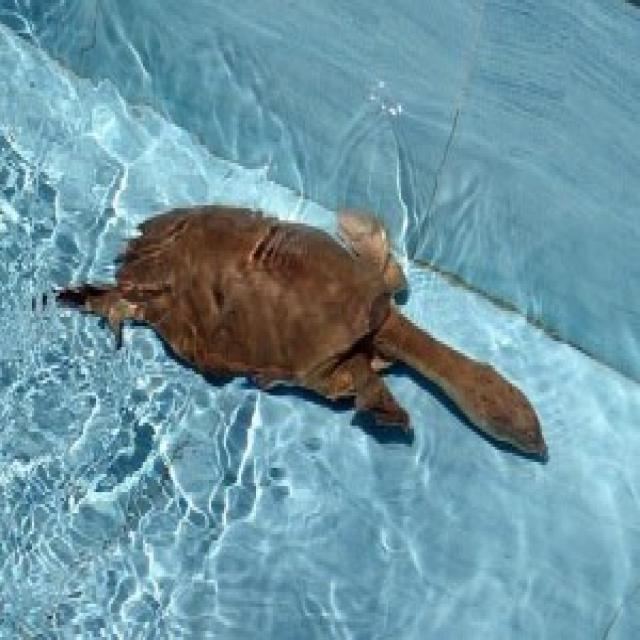Sea turtle: (76, 189, 574, 478)
